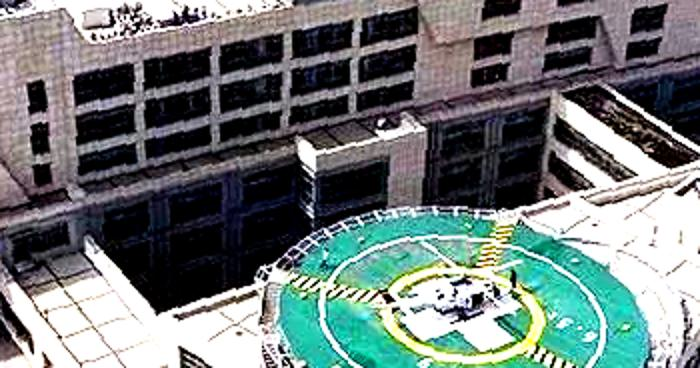Apron: (376, 248, 556, 367)
